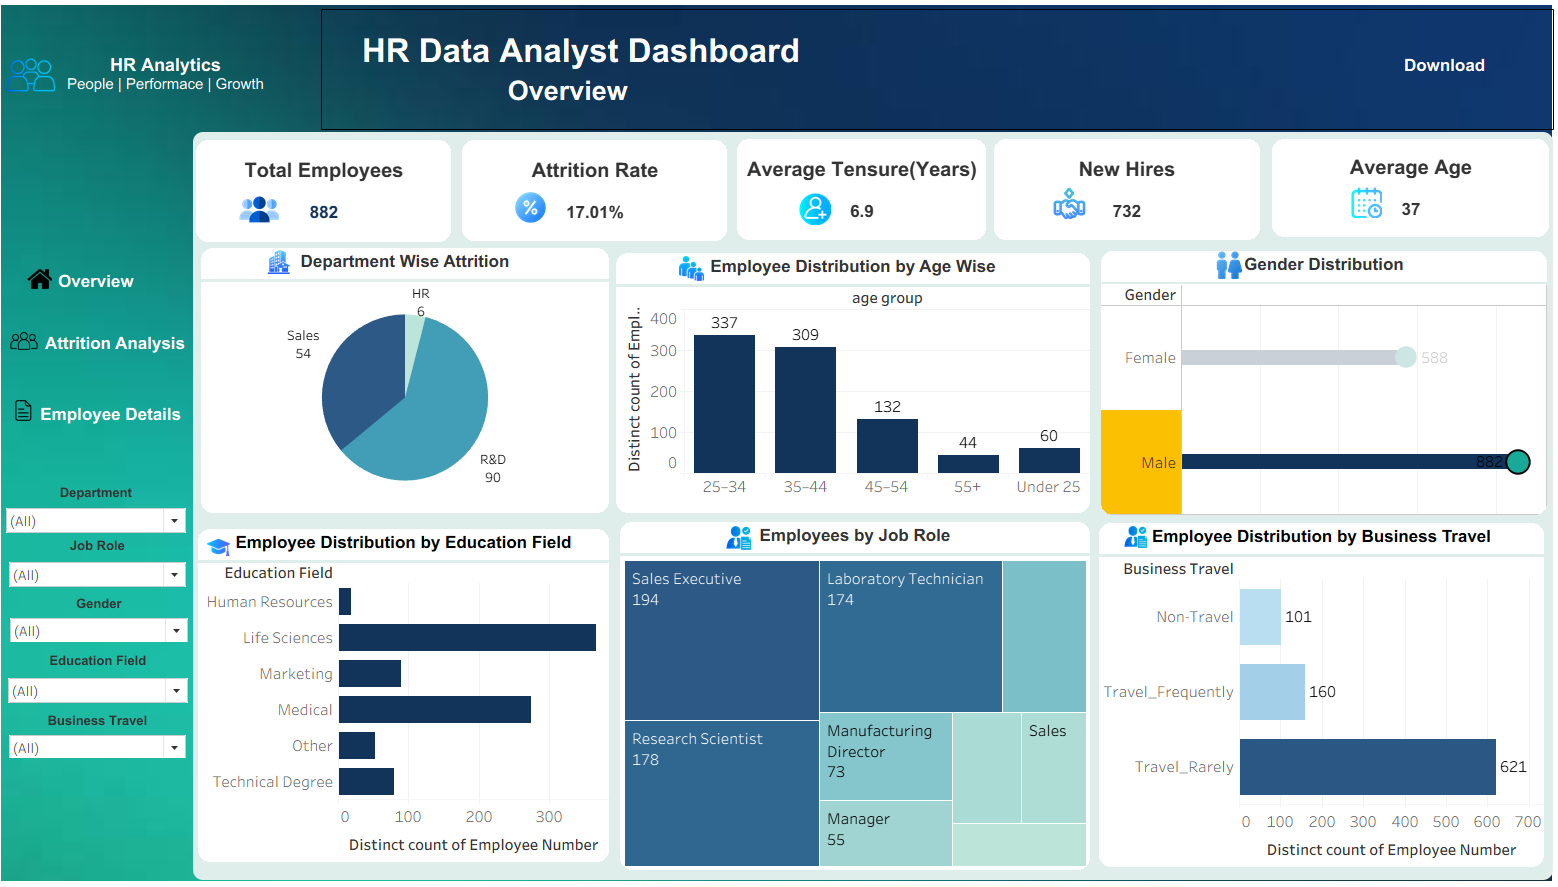

This screenshot's page, from the dashboard's own definition file:
{"tool":"tableau","page":{"name":"HR Data Analytics Dashboard","canvas":[1580,900],"ordinal":2},"visuals":[{"type":"image","param":"C:/Users/User/OneDrive/Desktop/HR tableau Project/back.png","box":[8,8,1564,884]},{"type":"text","box":[334,16,1233,121]},{"type":"text","box":[53,39,251,84]},{"type":"dashboard-object","box":[1376,47,164,52]},{"type":"image","param":"C:/Users/User/Downloads/group (1).png","box":[19,56,49,51]},{"type":"blank","box":[206,139,1360,748]},{"type":"worksheet","title":"Average Tensure(Years)","mark":"Automatic","box":[750,146,249,101]},{"type":"worksheet","title":"New Hires","mark":"Automatic","box":[1007,146,266,101]},{"type":"worksheet","title":"Average Age","mark":"Automatic","box":[1285,146,277,98]},{"type":"worksheet","title":"Total Employees","mark":"Automatic","box":[209,147,255,102]},{"type":"worksheet","title":"Attrition Rate","mark":"Automatic","box":[475,147,265,101]},{"type":"image","param":"C:/Users/User/Downloads/hire.png","box":[1062,191,41,38]},{"type":"image","param":"C:/Users/User/Downloads/calendar.png","box":[1363,194,33,31]},{"type":"image","param":"C:/Users/User/Downloads/group.png","box":[249,196,46,40]},{"type":"image","param":"C:/Users/User/Downloads/percentage.png","box":[527,197,32,35]},{"type":"image","param":"C:/Users/User/Downloads/add-user.png","box":[810,200,37,32]},{"type":"dashboard-object","box":[12,254,196,69]},{"type":"worksheet","title":"Department Wise Attrition","mark":"Pie","box":[214,255,408,265]},{"type":"image","param":"C:/Users/User/Downloads/property.png","box":[277,256,30,25]},{"type":"image","param":"C:/Users/User/Downloads/male-and-female.png","box":[1228,257,28,30]},{"type":"worksheet","title":"Gender Distribution","mark":"Automatic","rows":["Gender"],"cols":["Employee Number","Employee Number"],"box":[1114,258,446,264]},{"type":"worksheet","title":"Age Group Analysis","mark":"Automatic","rows":["Employee Number"],"cols":["Calculation_1281265421750272"],"box":[629,260,474,260]},{"type":"image","param":"C:/Users/User/Downloads/siblings.png","box":[691,262,26,26]},{"type":"image","param":"C:/Users/User/Downloads/home (2).png","box":[40,273,26,25]},{"type":"dashboard-object","box":[20,320,192,62]},{"type":"image","param":"C:/Users/User/Downloads/teamwork.png","box":[21,331,31,34]},{"type":"dashboard-object","box":[14,389,193,65]},{"type":"image","param":"C:/Users/User/Downloads/page.png","box":[25,403,22,29]},{"type":"filter","title":"Department Wise Attrition","param":"[federated.17kbyo00i53ng917owns715d3iit].[none:Department:nk]","box":[16,492,186,49]},{"type":"worksheet","title":"Employees by Job Role","mark":"Automatic","box":[633,529,470,348]},{"type":"worksheet","title":"Business Travel Distribution","mark":"Automatic","rows":["Business Travel"],"cols":["Employee Number"],"box":[1112,530,445,344]},{"type":"image","param":"C:/Users/User/Downloads/applicant.png","box":[1137,531,23,25]},{"type":"image","param":"C:/Users/User/Downloads/applicant.png","box":[739,532,26,25]},{"type":"worksheet","title":"Education Field Distribution","mark":"Automatic","rows":["Education Field"],"cols":["Employee Number"],"box":[211,536,411,333]},{"type":"image","param":"C:/Users/User/Downloads/graduation-hat.png","box":[218,541,27,26]},{"type":"filter","title":"Employees by Job Role","param":"[federated.17kbyo00i53ng917owns715d3iit].[none:Job Role:nk]","box":[19,545,183,52]},{"type":"filter","title":"Gender Distribution","param":"[federated.17kbyo00i53ng917owns715d3iit].[none:Gender:nk]","box":[20,603,184,46]},{"type":"filter","title":"Education Field Distribution","param":"[federated.17kbyo00i53ng917owns715d3iit].[none:Education Field:nk]","box":[18,660,186,59]},{"type":"filter","title":"Business Travel Distribution","param":"[federated.17kbyo00i53ng917owns715d3iit].[none:Business Travel:nk]","box":[19,720,183,45]}]}

Visuals, with their boxes in screenshot pixels (x1, y1, x2, y2), scaled from the page's 1580x900 canvas onto the 1558x887 screenshot:
image: bbox=[8, 8, 1550, 879]
text: bbox=[329, 16, 1545, 135]
text: bbox=[52, 38, 300, 121]
dashboard-object: bbox=[1357, 46, 1519, 98]
image: bbox=[19, 55, 67, 105]
blank: bbox=[203, 137, 1544, 874]
"Average Tensure(Years)" worksheet: bbox=[740, 144, 985, 243]
"New Hires" worksheet: bbox=[993, 144, 1255, 243]
"Average Age" worksheet: bbox=[1267, 144, 1540, 240]
"Total Employees" worksheet: bbox=[206, 145, 458, 245]
"Attrition Rate" worksheet: bbox=[468, 145, 730, 244]
image: bbox=[1047, 188, 1088, 226]
image: bbox=[1344, 191, 1377, 222]
image: bbox=[246, 193, 291, 233]
image: bbox=[520, 194, 551, 229]
image: bbox=[799, 197, 835, 229]
dashboard-object: bbox=[12, 250, 205, 318]
"Department Wise Attrition" worksheet (Pie marks): bbox=[211, 251, 613, 512]
image: bbox=[273, 252, 303, 277]
image: bbox=[1211, 253, 1239, 283]
"Gender Distribution" worksheet: bbox=[1098, 254, 1538, 514]
"Age Group Analysis" worksheet: bbox=[620, 256, 1088, 512]
image: bbox=[681, 258, 707, 284]
image: bbox=[39, 269, 65, 294]
dashboard-object: bbox=[20, 315, 209, 376]
image: bbox=[21, 326, 51, 360]
dashboard-object: bbox=[14, 383, 204, 447]
image: bbox=[25, 397, 46, 426]
"Department Wise Attrition" filter: bbox=[16, 485, 199, 533]
"Employees by Job Role" worksheet: bbox=[624, 521, 1088, 864]
"Business Travel Distribution" worksheet: bbox=[1097, 522, 1535, 861]
image: bbox=[1121, 523, 1144, 548]
image: bbox=[729, 524, 754, 549]
"Education Field Distribution" worksheet: bbox=[208, 528, 613, 856]
image: bbox=[215, 533, 242, 559]
"Employees by Job Role" filter: bbox=[19, 537, 199, 588]
"Gender Distribution" filter: bbox=[20, 594, 201, 640]
"Education Field Distribution" filter: bbox=[18, 650, 201, 709]
"Business Travel Distribution" filter: bbox=[19, 710, 199, 754]
